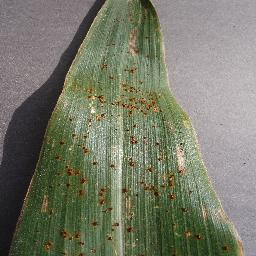Gray_Leaf_Spot: (78, 0, 164, 256), (7, 52, 79, 256), (164, 120, 244, 256), (163, 66, 191, 121)
